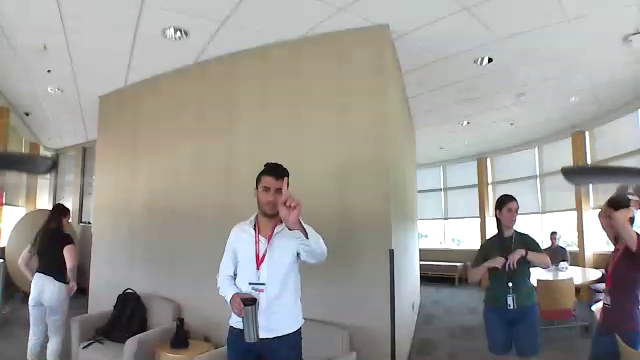up: (275, 175, 305, 229)
